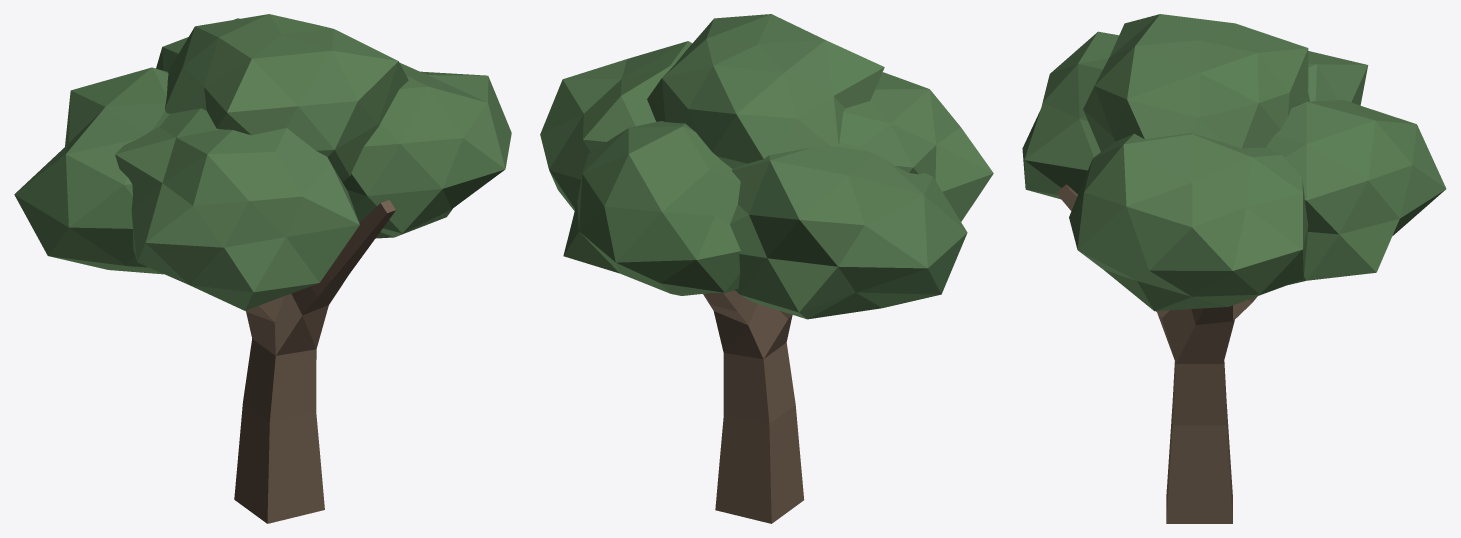
Rendered from tree_oak.glb.
The picture shows the model from 3 angles, left to right: view 1: azimuth 30°, elevation 25°; view 2: azimuth 150°, elevation 25°; view 3: azimuth 270°, elevation 25°; orthographic projection. The views are drawn at different scales.
Visible parts, largest first — view 1: tree_oak; view 2: tree_oak; view 3: tree_oak.
Boxes of the visible parts, <box> form: tree_oak: <box>14,14,511,523</box>; tree_oak: <box>540,14,993,523</box>; tree_oak: <box>1022,14,1446,523</box>.
Size of the model in its own units: 6.4 by 6.79 by 5.51.
